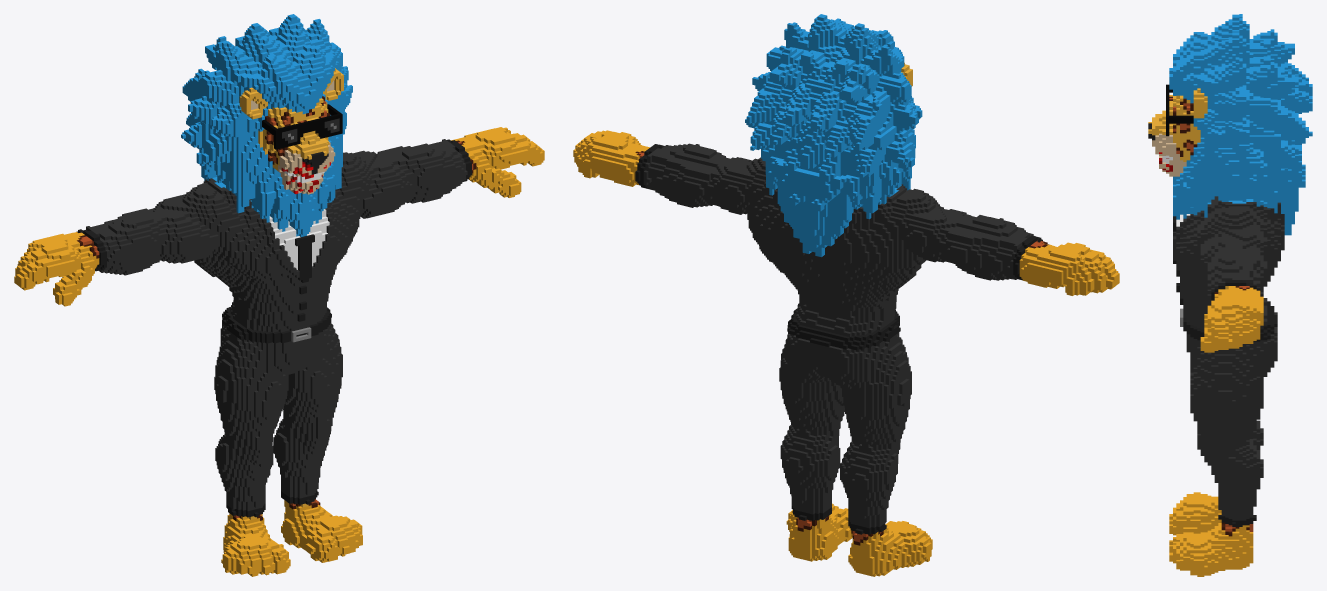
File: 558-iArBjDgI.fbx
The picture shows the model from 3 angles, left to right: view 1: azimuth 30°, elevation 25°; view 2: azimuth 150°, elevation 25°; view 3: azimuth 270°, elevation 25°; orthographic projection. The views are drawn at different scales.
Visible parts, largest first — view 1: blood; view 2: blood; view 3: blood.
Boxes of the visible parts, bbox=[...] form: blood: bbox=[14, 14, 544, 576]; blood: bbox=[573, 14, 1119, 576]; blood: bbox=[1148, 14, 1312, 576].
Bounding box in the file's own units: 17.2 × 16.5 × 4.7.
5 materials, 5 textured.
